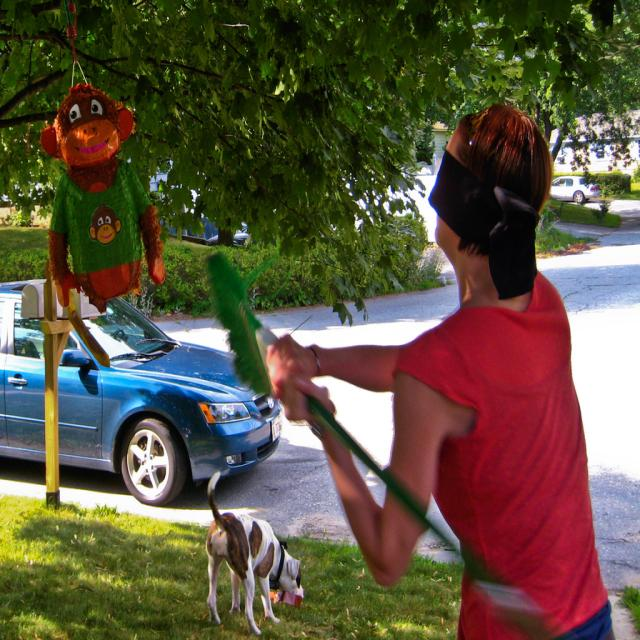Dog: (202, 468, 306, 634)
